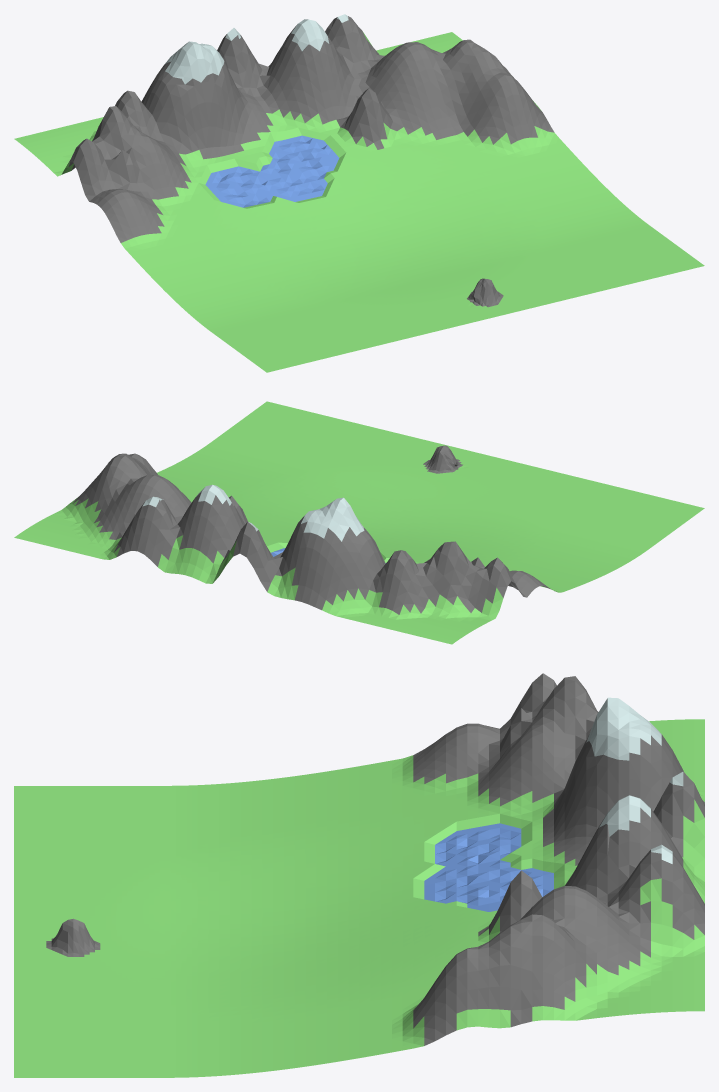
The model's file is Terrain_01_lake.fbx.
The picture shows the model from 3 angles, top to bottom: view 1: azimuth 30°, elevation 25°; view 2: azimuth 150°, elevation 25°; view 3: azimuth 270°, elevation 25°; orthographic projection. The views are drawn at different scales.
Parts seen in each view (by area): view 1: Plane; view 2: Plane; view 3: Plane.
Part boxes in pixels (x1,y1,x2,y2): Plane: [14, 14, 704, 372]; Plane: [14, 401, 704, 644]; Plane: [14, 673, 704, 1077].
Size of the model in its own units: 200 by 59.53 by 200.
